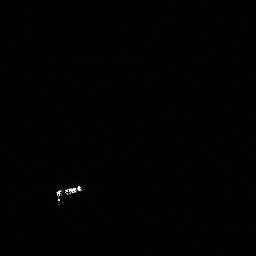ship: (57, 185, 82, 197)
